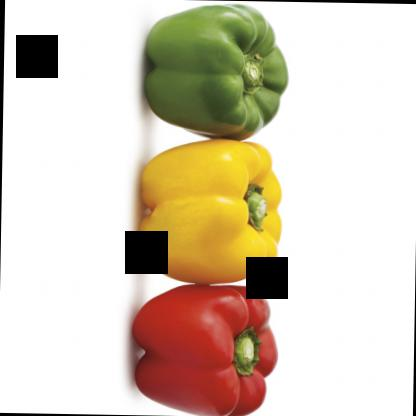bell pepper: (132, 135, 284, 288), (134, 1, 291, 142), (123, 285, 276, 415)
